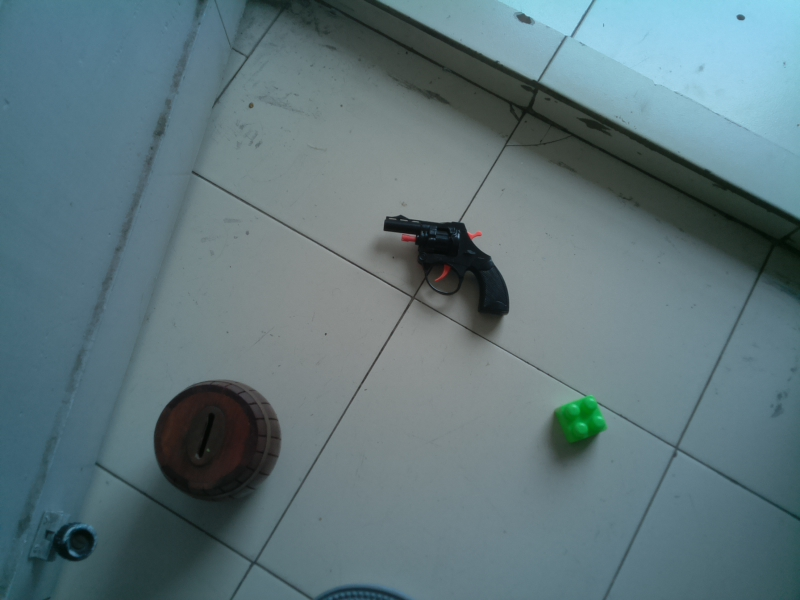Gun: (380, 210, 516, 323)
